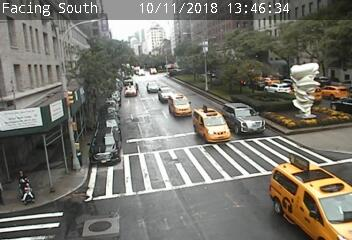car: (223, 103, 265, 136), (193, 108, 230, 144), (89, 128, 120, 164), (289, 85, 321, 104), (169, 94, 191, 117), (317, 85, 348, 99), (264, 83, 291, 96), (158, 86, 176, 103), (248, 79, 269, 90), (146, 82, 160, 93), (124, 85, 137, 96)
